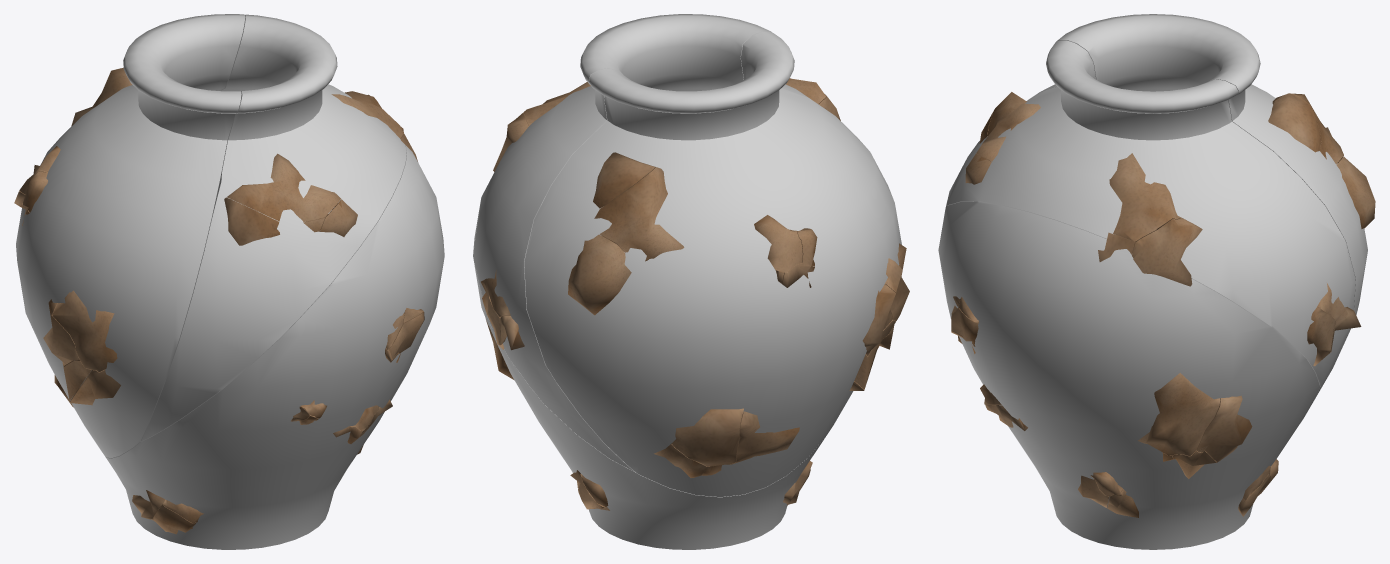
The model's file is Jar_With_Dragon_Crack_V4.fbx.
The picture shows the model from 3 angles, left to right: view 1: azimuth 30°, elevation 25°; view 2: azimuth 150°, elevation 25°; view 3: azimuth 270°, elevation 25°; orthographic projection.
Visible parts, largest first — view 1: Jar_Crack_3, Jar_Crack_2, Jar_Crack_1, Dirt_Jar_3_1_cell.001, Dirt_Jar_1_1_cell, Dirt_Jar_3_1_cell.003, Dirt_Jar_1_1_cell.001, Dirt_Jar_1_1_cell.003, Dirt_Jar_2_cell.001, Dirt_Jar_3_1_cell, Dirt_Jar_3_cell.001, Dirt_Jar_6_cell.002 (+4 smaller); view 2: Jar_Crack_3, Jar_Crack_1, Jar_Crack_2, Dirt_Jar_3_cell.001, Dirt_Jar_3_cell.002, Dirt_Jar_2_1_cell.003, Dirt_Jar_3_cell, Dirt_Jar_2_1_cell.002, Dirt_Jar_6_1_cell.003, Dirt_Jar_1_1_cell.003, Dirt_Jar_1_1_cell, Dirt_Jar_2_1_cell (+6 smaller); view 3: Jar_Crack_2, Jar_Crack_1, Jar_Crack_3, Dirt_Jar_1_cell.003, Dirt_Jar_2_cell.001, Dirt_Jar_2_cell, Dirt_Jar_1_cell.001, Dirt_Jar_3_cell, Dirt_Jar_3_1_cell.001, Dirt_Jar_3_cell.002, Dirt_Jar_4_cell, Dirt_Jar_3_cell.001 (+6 smaller).
Part boxes in pixels (x1,y1,x2,y2): Jar_Crack_3: (16, 14, 245, 458); Jar_Crack_2: (105, 145, 444, 549); Jar_Crack_1: (141, 14, 406, 441); Dirt_Jar_3_1_cell.001: (227, 153, 340, 221); Dirt_Jar_1_1_cell: (52, 290, 117, 372); Dirt_Jar_3_1_cell.003: (224, 197, 279, 245); Dirt_Jar_1_1_cell.001: (69, 369, 120, 405); Dirt_Jar_1_1_cell.003: (43, 299, 79, 366); Dirt_Jar_2_cell.001: (331, 91, 403, 138); Dirt_Jar_3_1_cell: (320, 199, 357, 236); Dirt_Jar_3_cell.001: (71, 67, 132, 126); Dirt_Jar_6_cell.002: (389, 311, 424, 358); Jar_Crack_3: (524, 32, 901, 496); Jar_Crack_1: (473, 14, 859, 471); Jar_Crack_2: (473, 210, 825, 549); Dirt_Jar_3_cell.001: (594, 167, 684, 261); Dirt_Jar_3_cell.002: (568, 234, 631, 315); Dirt_Jar_2_1_cell.003: (671, 408, 743, 466); Dirt_Jar_3_cell: (593, 152, 654, 208); Dirt_Jar_2_1_cell.002: (736, 411, 799, 462); Dirt_Jar_6_1_cell.003: (754, 215, 802, 272); Dirt_Jar_1_1_cell.003: (862, 284, 895, 356); Dirt_Jar_1_1_cell: (884, 243, 909, 320); Dirt_Jar_2_1_cell: (654, 444, 706, 477); Jar_Crack_2: (938, 201, 1319, 549); Jar_Crack_1: (946, 40, 1355, 394); Jar_Crack_3: (1041, 14, 1367, 332); Dirt_Jar_1_cell.003: (1138, 373, 1220, 456); Dirt_Jar_2_cell.001: (1109, 153, 1183, 242); Dirt_Jar_2_cell: (1132, 218, 1202, 286); Dirt_Jar_1_cell.001: (1196, 395, 1252, 462); Dirt_Jar_3_cell: (1268, 93, 1321, 152); Dirt_Jar_3_1_cell.001: (976, 92, 1040, 161); Dirt_Jar_3_cell.002: (1336, 157, 1375, 228); Dirt_Jar_4_cell: (1307, 307, 1335, 366); Dirt_Jar_3_cell.001: (1272, 93, 1343, 164).
Size of the model in its own units: 186 by 212 by 185.
